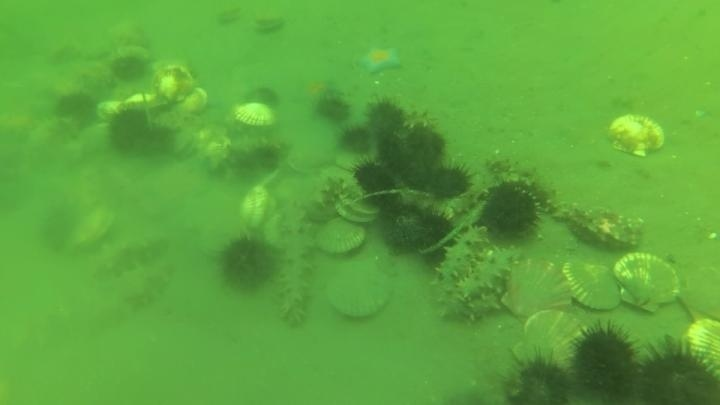echinus: (567, 322, 641, 399), (633, 339, 719, 405), (498, 348, 577, 405), (215, 232, 281, 295), (380, 204, 455, 257), (478, 181, 539, 243), (204, 136, 287, 181), (105, 105, 152, 155), (37, 203, 81, 254), (424, 162, 474, 202), (400, 124, 453, 160), (364, 98, 408, 141), (131, 121, 178, 161), (242, 141, 285, 179), (105, 20, 154, 53), (53, 89, 98, 124), (355, 160, 397, 197), (109, 51, 151, 86), (400, 159, 444, 191), (313, 93, 353, 126), (337, 124, 376, 157), (243, 84, 283, 113), (377, 137, 411, 169)
holothurian: (432, 225, 514, 322), (486, 155, 560, 217), (274, 234, 317, 329), (205, 135, 287, 181), (94, 233, 170, 280), (376, 93, 449, 136), (120, 259, 176, 311), (300, 172, 348, 225), (443, 180, 492, 228)
scallop: (514, 308, 596, 373), (558, 201, 645, 254), (610, 250, 683, 313), (500, 257, 571, 321), (324, 263, 394, 322), (559, 253, 623, 313), (149, 60, 207, 114), (605, 111, 667, 160), (675, 260, 719, 324), (682, 315, 720, 383), (314, 216, 368, 259), (70, 204, 118, 252), (285, 137, 337, 176), (238, 182, 275, 233), (194, 127, 233, 171), (332, 193, 381, 227), (232, 100, 277, 130), (177, 87, 210, 117), (251, 11, 287, 37), (94, 97, 127, 125), (333, 151, 370, 174), (213, 5, 244, 28)
starfish: (356, 43, 404, 76), (295, 74, 339, 110)
